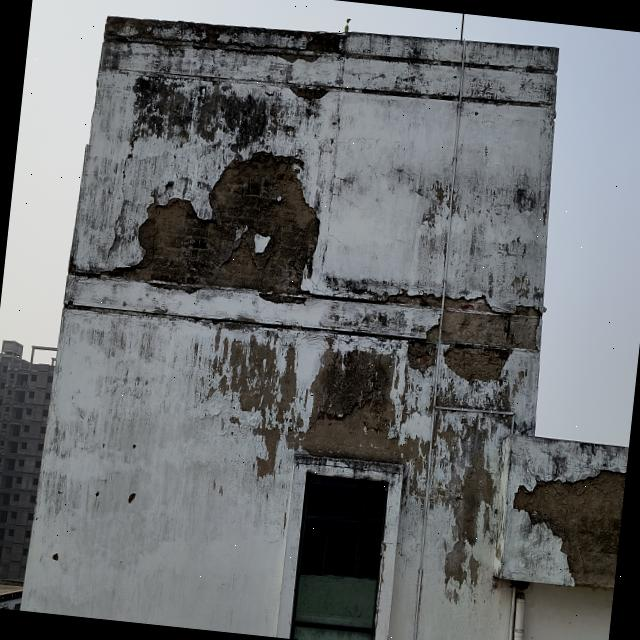peeling: (113, 152, 319, 300), (285, 348, 429, 502), (374, 288, 539, 386), (512, 469, 625, 589), (434, 417, 497, 587), (229, 334, 279, 410), (252, 420, 280, 477), (276, 347, 296, 421), (126, 492, 137, 505), (52, 552, 59, 561)
stain_mould: (133, 73, 298, 153), (99, 17, 345, 70)
